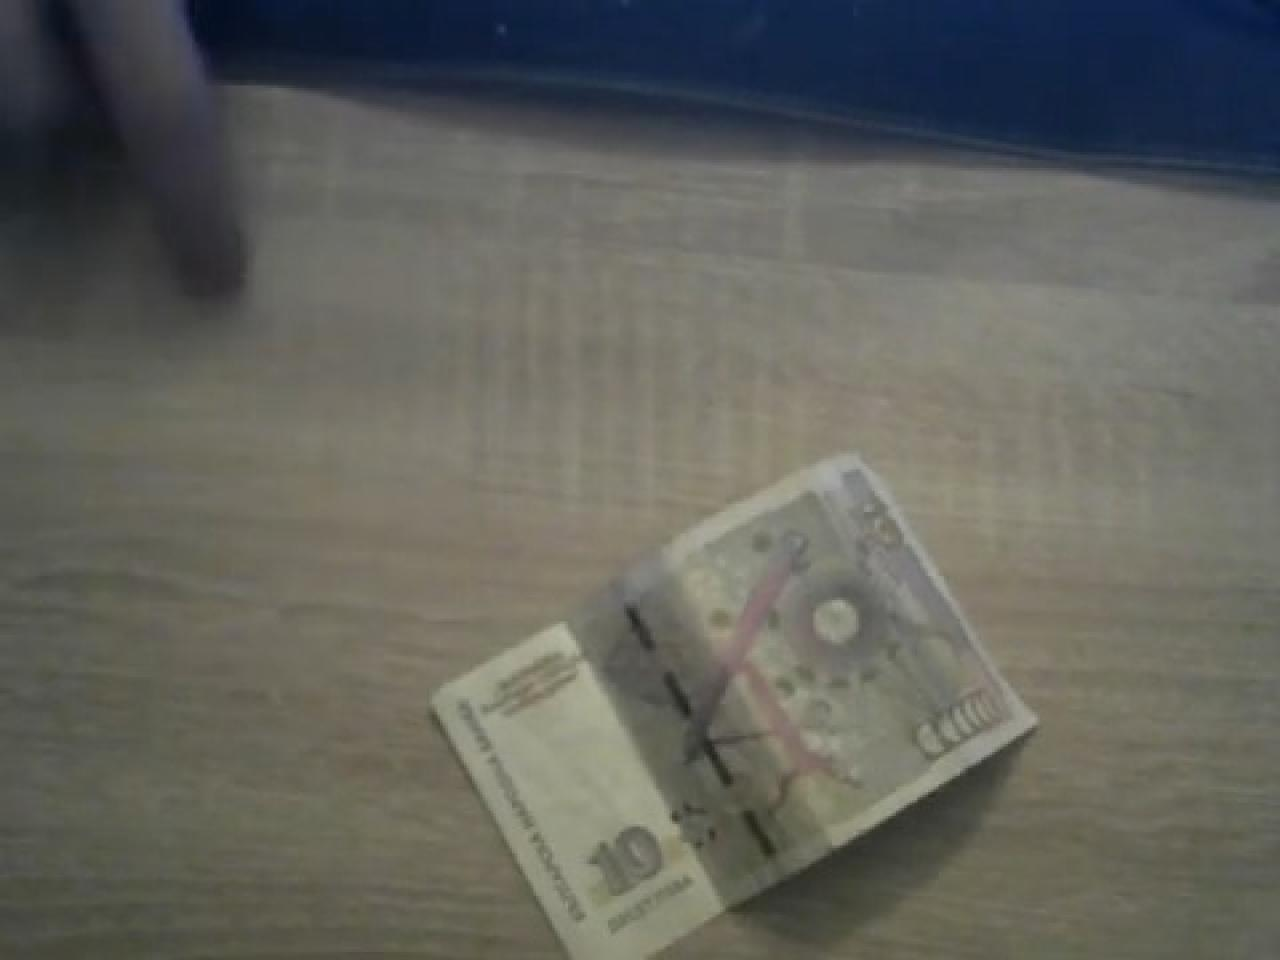10leva: (429, 454, 1037, 960)
